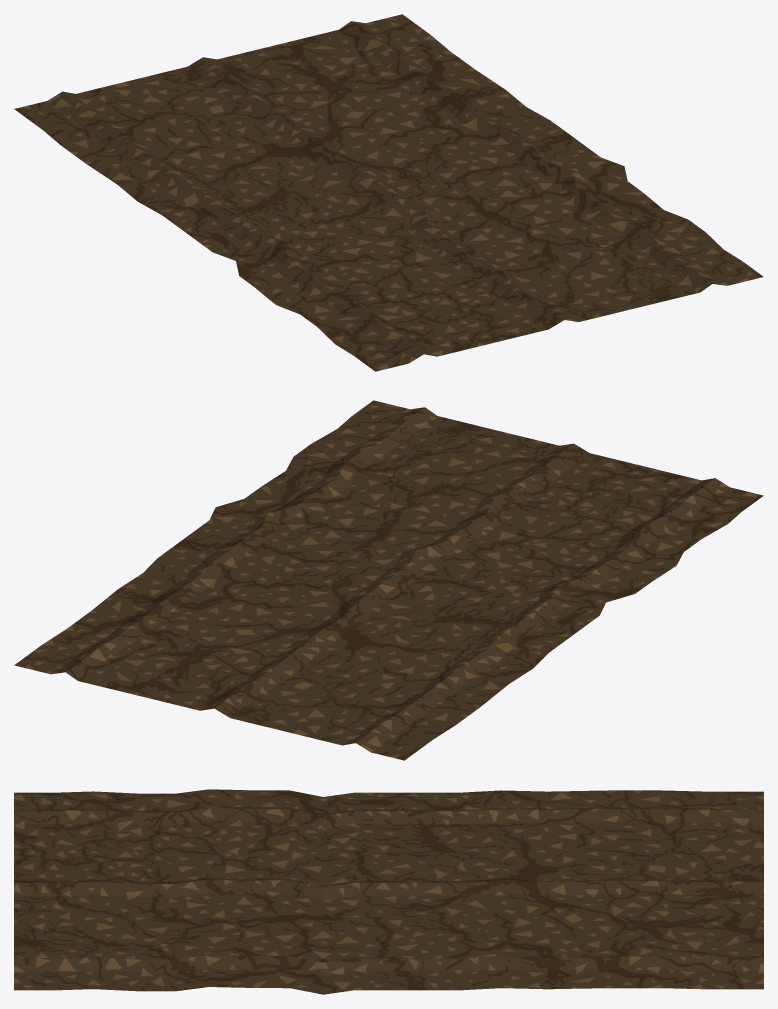
The model's file is SM_Env_Road_Dirt_Straight_01.fbx.
3 views of the same model, one above another, from view 1: azimuth 30°, elevation 25°; view 2: azimuth 150°, elevation 25°; view 3: azimuth 270°, elevation 25° (orthographic). The views are drawn at different scales.
Visible parts, largest first — view 1: Plane.001; view 2: Plane.001; view 3: Plane.001.
Part boxes in pixels (left/top/right/bottom): Plane.001: left=14, top=14, right=763, bottom=371; Plane.001: left=14, top=400, right=763, bottom=760; Plane.001: left=14, top=789, right=763, bottom=994.
Size of the model in its own units: 726 by 9.69 by 1121.
